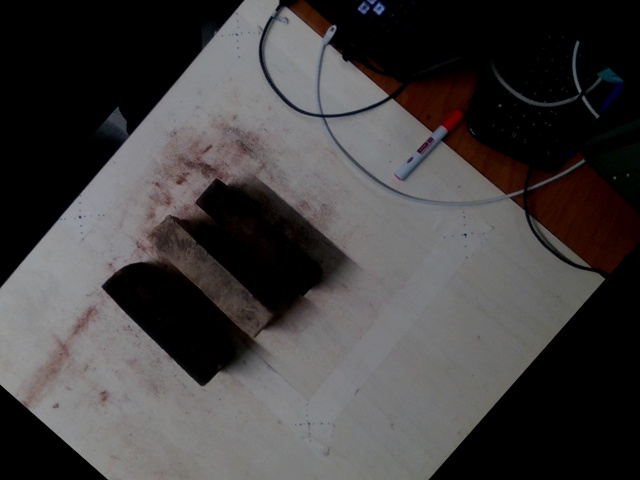brick-side: (150, 216, 272, 338), (192, 178, 319, 295), (102, 269, 221, 390)
